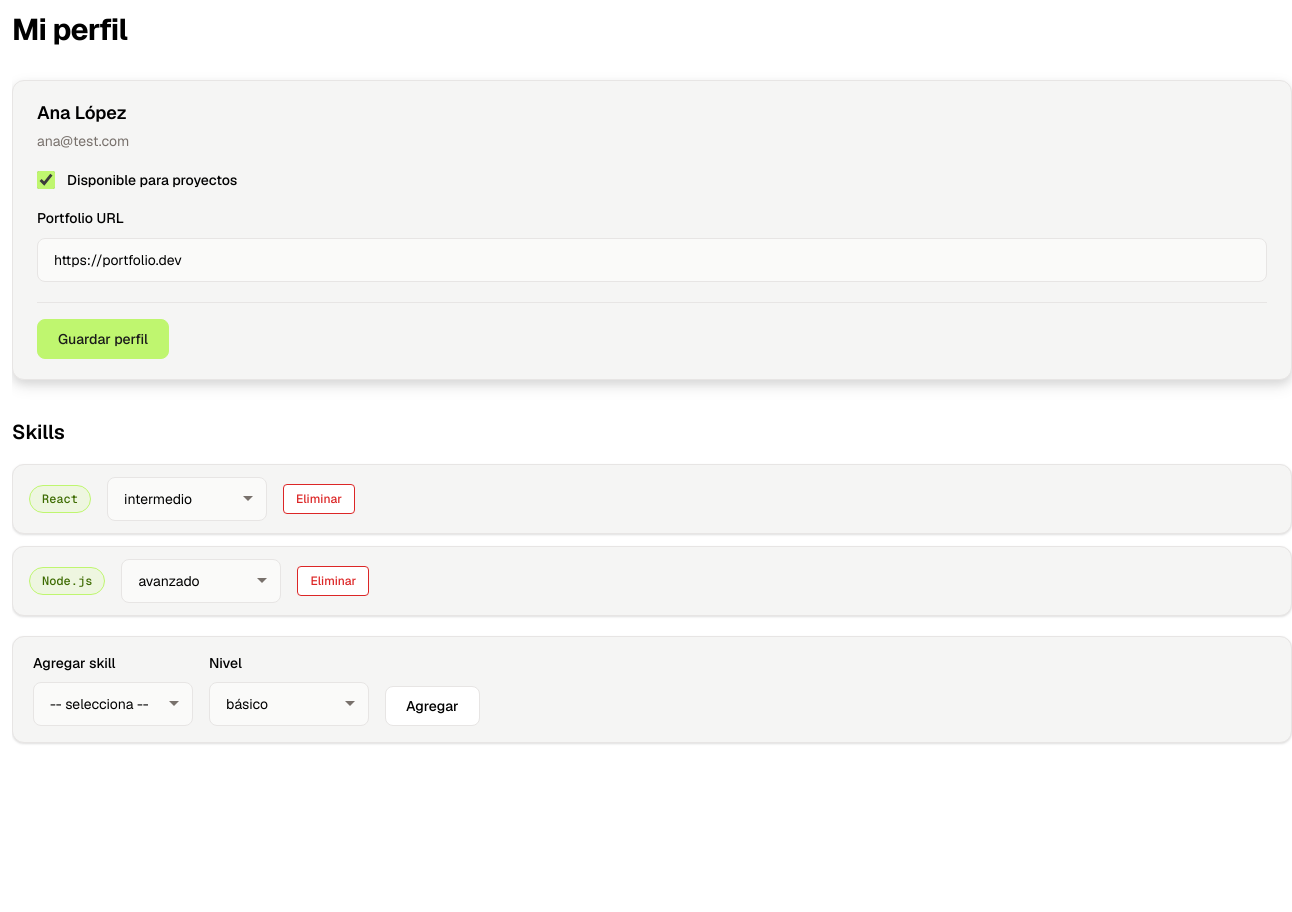
StudentProfilePage › AC5: muestra mensaje de éxito después de guardar perfil
Expected: the heading "Ana López" is shown, [37, 101, 129, 126]
Click the button "Guardar perfil" at (103, 339), box [37, 319, 169, 359]
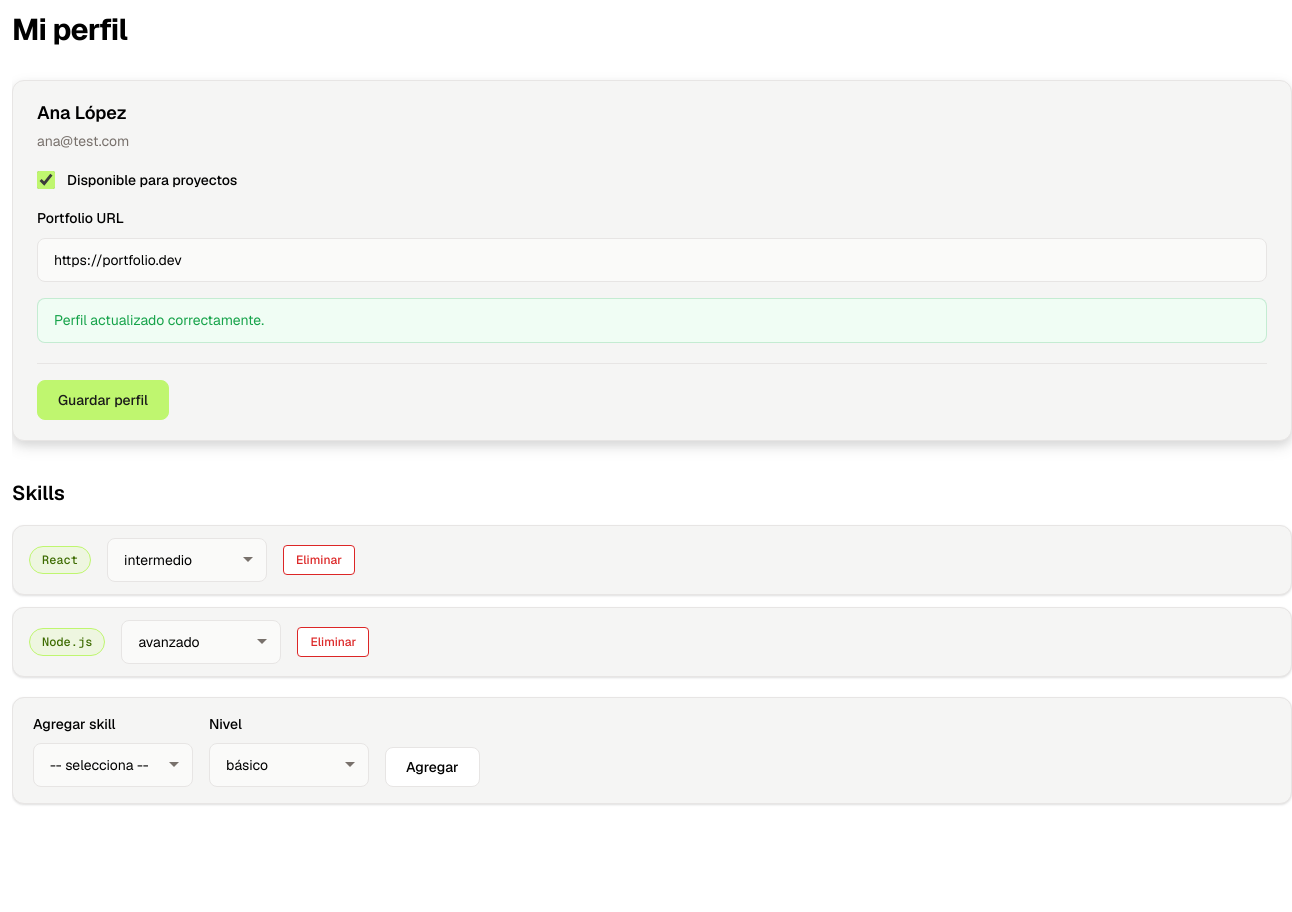
Expected: the text "Perfil actualizado correctamente." is shown, [37, 298, 1267, 343]
